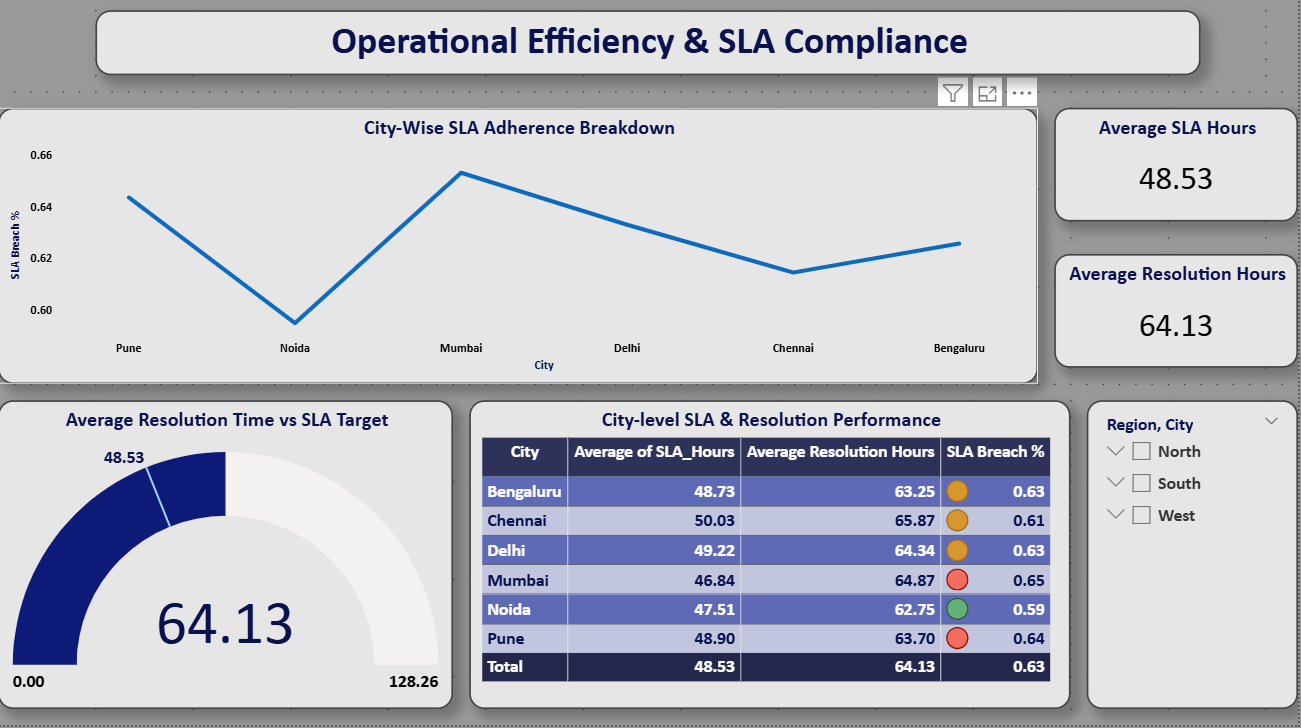

Layout of this report page (visuals, bound fields, positions):
{"tool":"powerbi","page":{"name":"SLA Operations","canvas":[1280,720],"ordinal":3},"visuals":[{"type":"card","title":"Average Resolution Hours","fields":{"Values":["Fact_Orders.Average Resolution Hours"]},"box":[1040,256,240,112],"z":0},{"type":"gauge","title":"Average Resolution Time vs SLA Target","fields":{"Y":["Fact_Orders.Average Resolution Hours"],"TargetValue":["Avg(Fact_Orders.SLA_Hours)"]},"box":[0,400,448,304],"z":1000},{"type":"lineChart","title":"City-Wise SLA Adherence Breakdown","fields":{"Category":["Fact_Orders.City"],"Y":["Fact_Orders.SLA Breach %"]},"box":[0,112,1024,272],"z":2000},{"type":"tableEx","title":"City-level SLA & Resolution Performance","fields":{"Values":["Fact_Orders.City","Avg(Fact_Orders.SLA_Hours)","Fact_Orders.Average Resolution Hours","Fact_Orders.SLA Breach %"]},"box":[464,400,592,304],"z":3000},{"type":"textbox","title":"Operational Efficiency & SLA Compliance","box":[96,16,1088,64],"z":4000},{"type":"card","title":"Average SLA Hours","fields":{"Values":["Avg(Fact_Orders.SLA_Hours)"]},"box":[1040,112,240,112],"z":5000},{"type":"slicer","fields":{"Values":["Fact_Orders.Region","Fact_Orders.City"]},"box":[1072,400,208,304],"z":6000}]}

Visuals, with their boxes in screenshot pixels (x1, y1, x2, y2), scaled from the page's 1280x720 canvas onto the 1301x728 screenshot:
"Average Resolution Hours" card: 1057/259/1300/372
"Average Resolution Time vs SLA Target" gauge: 0/404/455/712
"City-Wise SLA Adherence Breakdown" lineChart: 0/113/1041/388
"City-level SLA & Resolution Performance" tableEx: 472/404/1073/712
"Operational Efficiency & SLA Compliance" textbox: 98/16/1203/81
"Average SLA Hours" card: 1057/113/1300/226
slicer - Fact_Orders.Region x Fact_Orders.City: 1090/404/1300/712
